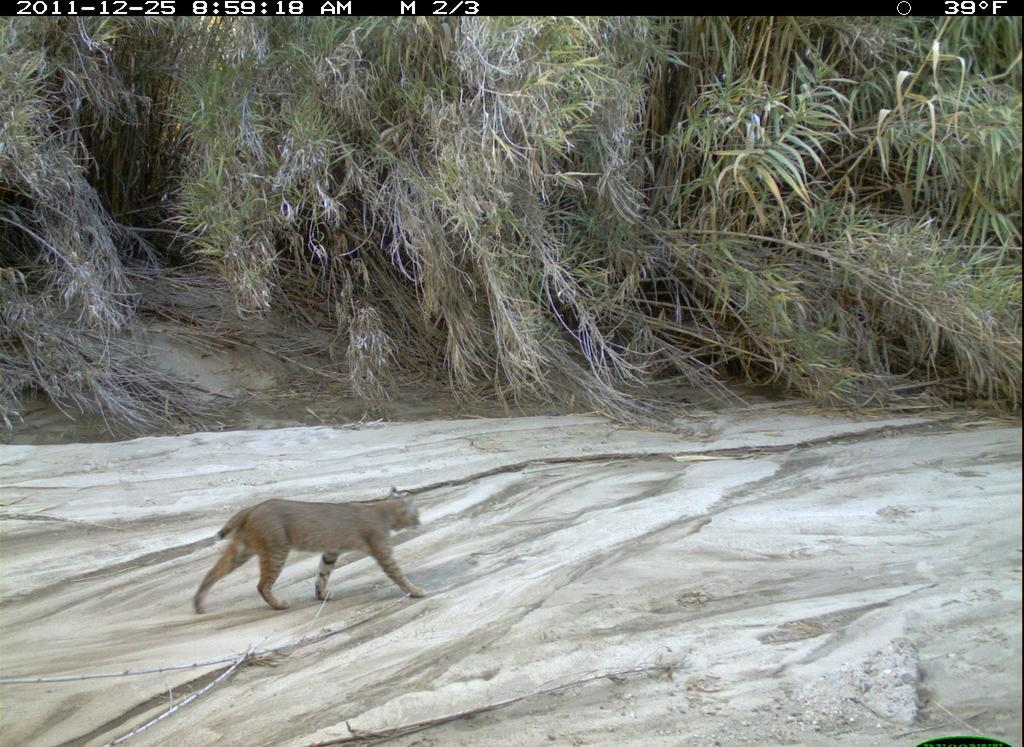bobcat: (184, 466, 457, 628)
